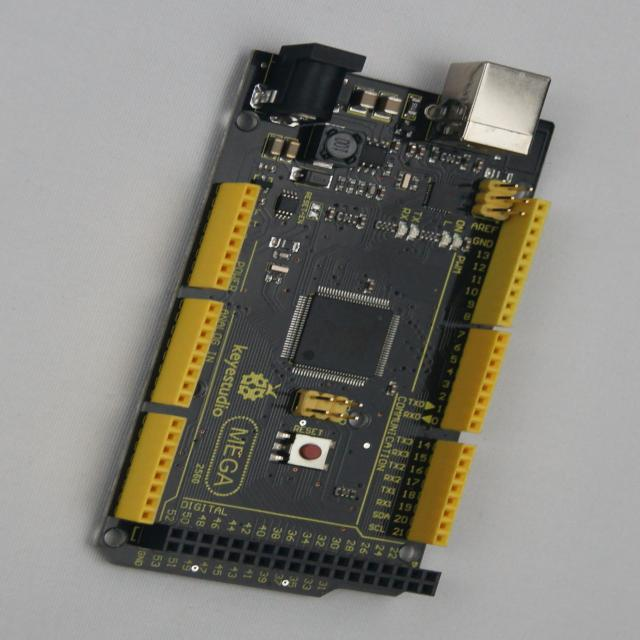Arduino Mega 2560 -Yellow-: (103, 44, 555, 595)
